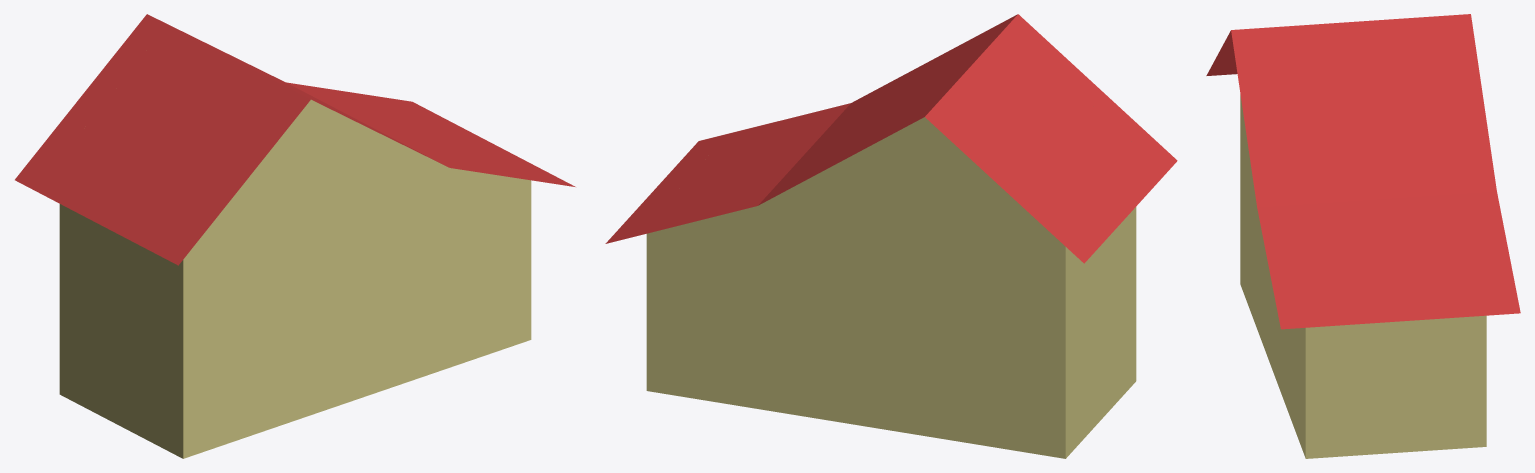
3 views of the same model, side by side, from view 1: azimuth 30°, elevation 25°; view 2: azimuth 150°, elevation 25°; view 3: azimuth 270°, elevation 25° (orthographic). The views are drawn at different scales.
Bounding box in the file's own units: 17.03 × 10.51 × 11.45.
